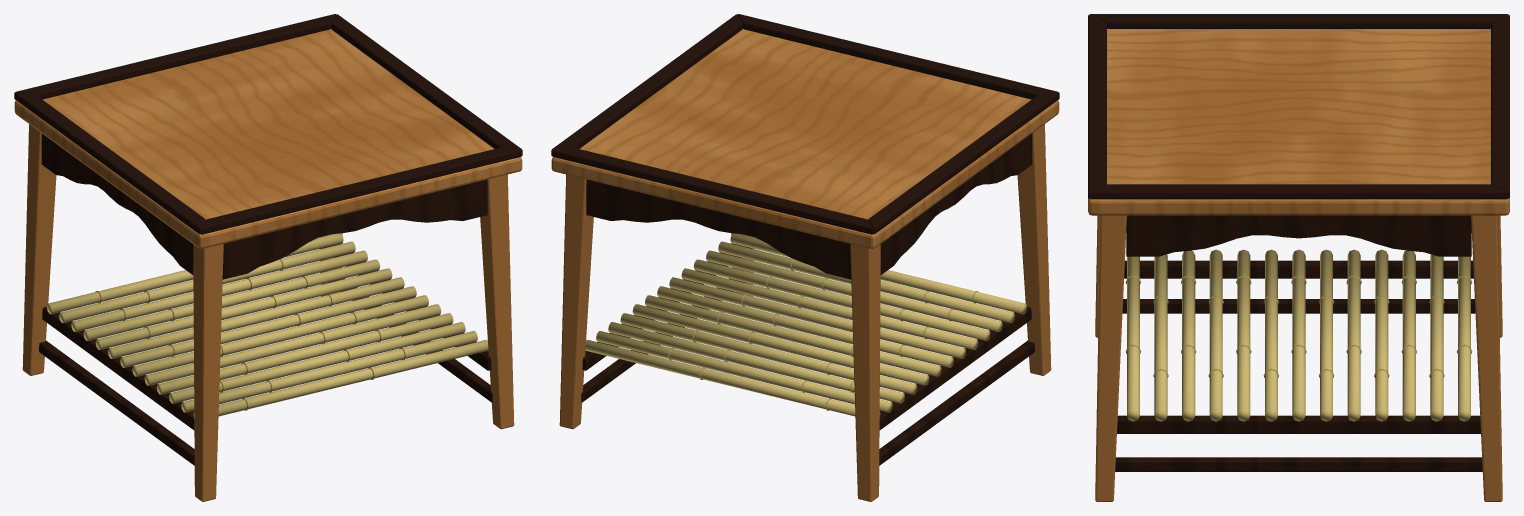
Rendered from ricestand.glb.
3 views of the same model, side by side, from view 1: azimuth 30°, elevation 25°; view 2: azimuth 150°, elevation 25°; view 3: azimuth 270°, elevation 25° (orthographic). The views are drawn at different scales.
Parts seen in each view (by area): view 1: RiceStand; view 2: RiceStand; view 3: RiceStand.
Part boxes in pixels (x1=…): RiceStand: x1=14, y1=14, x2=522, y2=501; RiceStand: x1=551, y1=14, x2=1059, y2=501; RiceStand: x1=1088, y1=14, x2=1509, y2=501.
Size of the model in its own units: 1.35 by 1.11 by 1.35.
4 materials, 2 textured.
